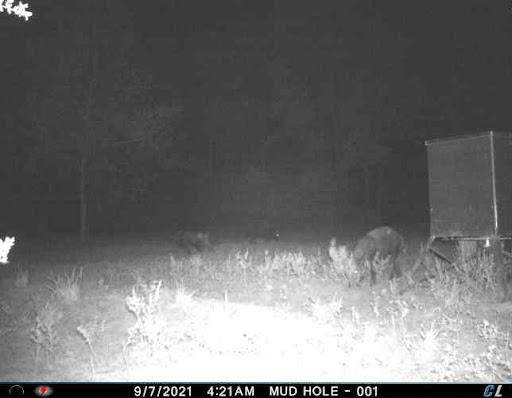Hog: (353, 224, 412, 290), (238, 214, 286, 248), (176, 225, 220, 260)
